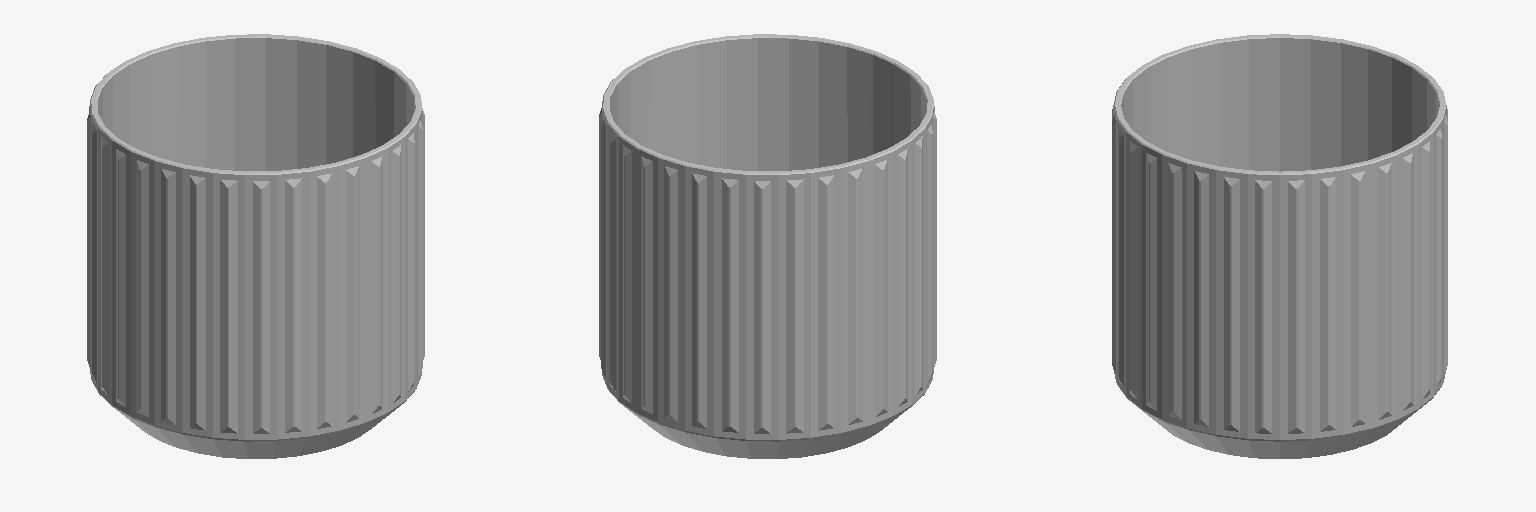
The model's file is pot.obj.
The picture shows the model from 3 angles: view 1: azimuth 30°, elevation 25°; view 2: azimuth 150°, elevation 25°; view 3: azimuth 270°, elevation 25°; orthographic projection.
Parts seen in each view (by area): view 1: Ceramic_pot_Ceramic_pot; view 2: Ceramic_pot_Ceramic_pot; view 3: Ceramic_pot_Ceramic_pot.
Boxes of the visible parts, x1,y1,x2,y2 form: Ceramic_pot_Ceramic_pot: [87, 34, 424, 458]; Ceramic_pot_Ceramic_pot: [599, 34, 936, 458]; Ceramic_pot_Ceramic_pot: [1112, 34, 1447, 458].
Bounding box in the file's own units: 0.1314 × 0.131 × 0.1314.